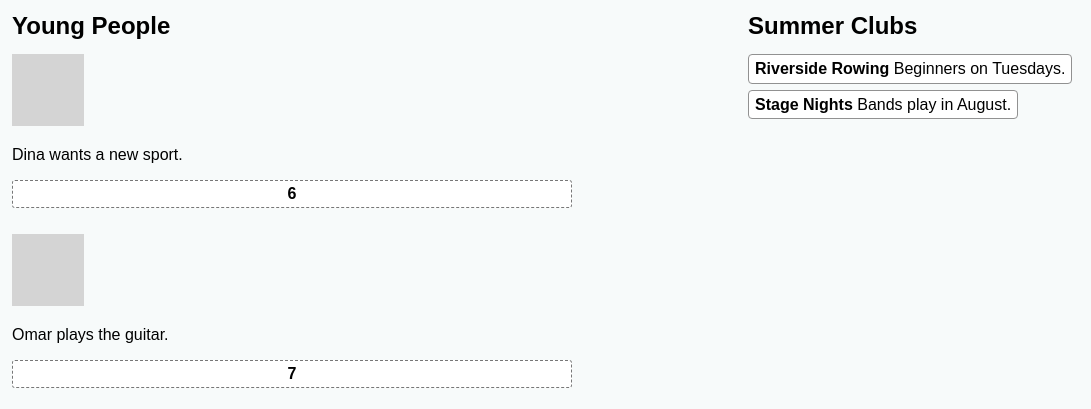
it: DragDropMatch with long cards (B1 Reading, VE-34) › shows each person with picture, text and a slot, and cards with their title in bold
Expected: the heading "Young People" is shown, [12, 12, 170, 39]
Expected: the text "Dina wants a new sport." is shown, [12, 146, 183, 163]
What coordinates should you click on to do the following:
click the button "Riverside Rowing Beginners on Tuesdays."
I would click on:
 (910, 69)
Its box is [748, 54, 1072, 84].
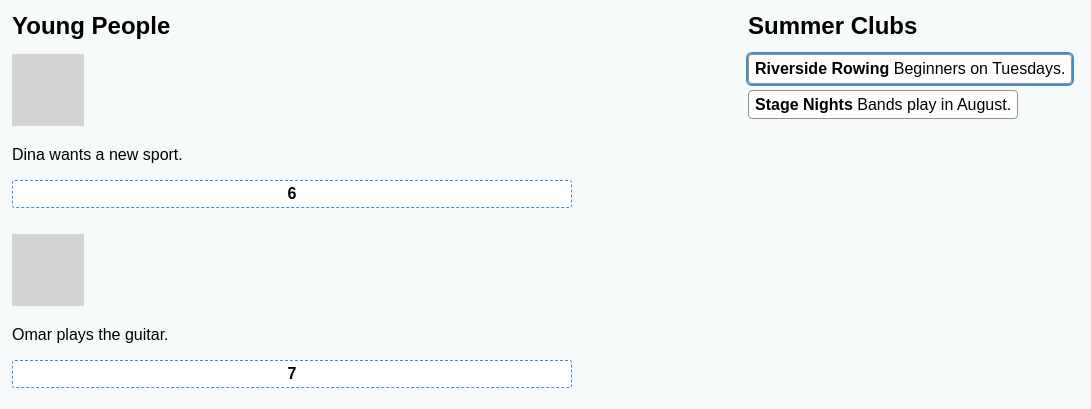
What coordinates should you click on to do the following:
click the button named "Question 6, empty"
I would click on:
 (292, 194)
Its box is [13, 182, 571, 206].
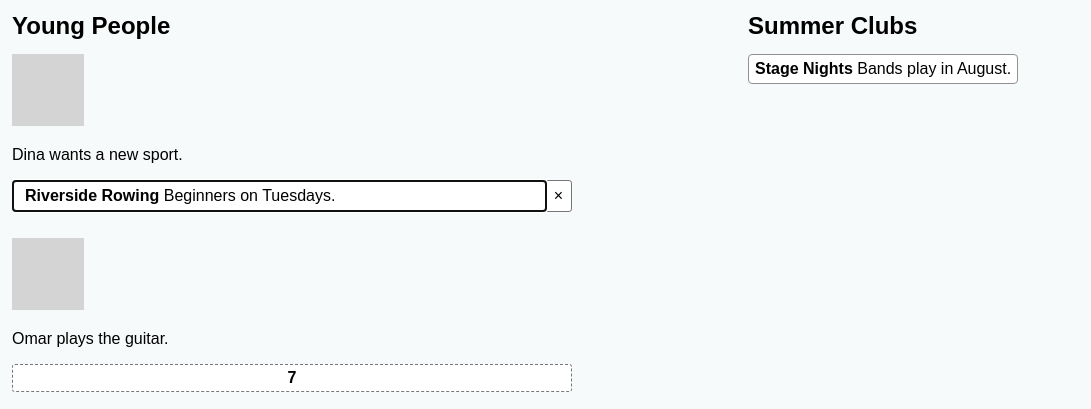
Expected: the button with aria-label "Question 6, Riverside Rowing" reads "Riverside Rowing Beginners on Tuesdays.", [13, 181, 546, 211]
